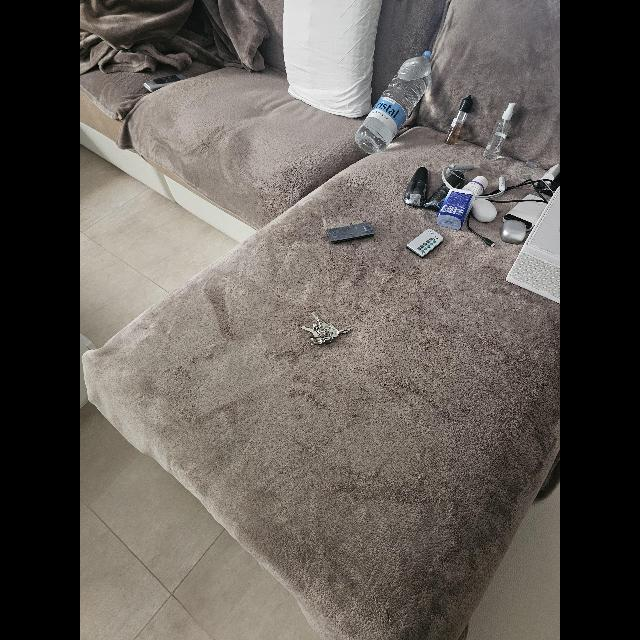Keys: (300, 310, 350, 346)
